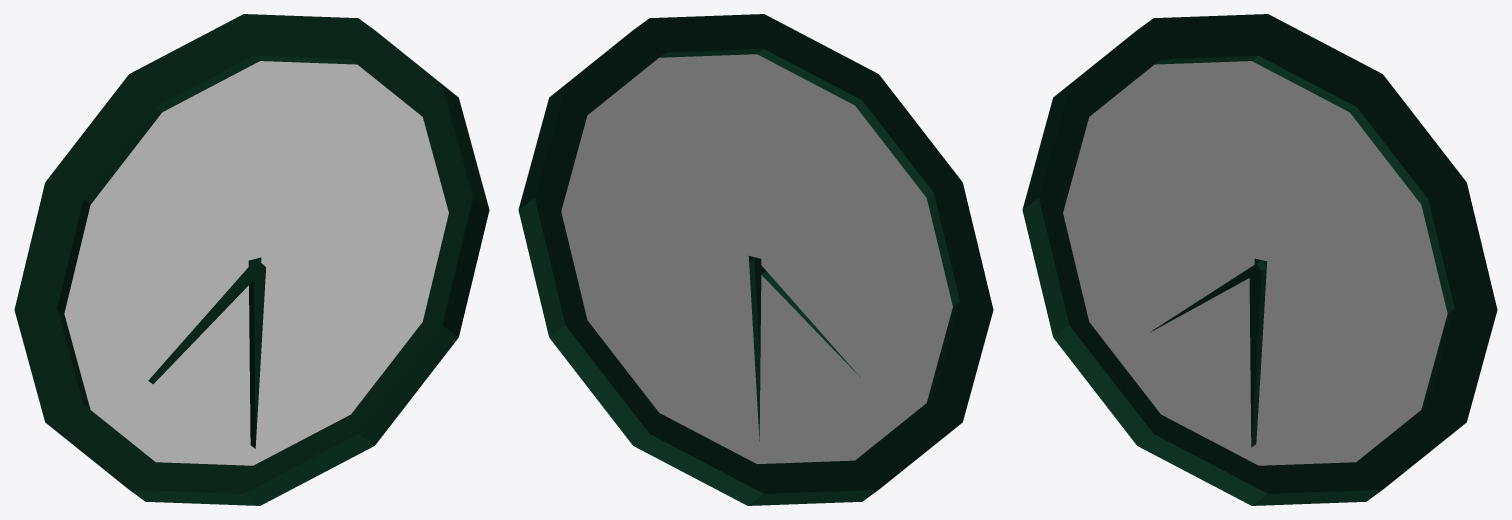
Rendered from clock.fbx.
The picture shows the model from 3 angles, left to right: view 1: azimuth 30°, elevation 25°; view 2: azimuth 150°, elevation 25°; view 3: azimuth 330°, elevation 25°; orthographic projection.
Parts seen in each view (by area): view 1: clock_export; view 2: clock_export; view 3: clock_export.
Part boxes in pixels (x1,y1,x2,y2): clock_export: (14, 14, 489, 505); clock_export: (518, 14, 993, 505); clock_export: (1022, 14, 1497, 505).
Bounding box in the file's own units: 80.44 × 80.44 × 4.99.
